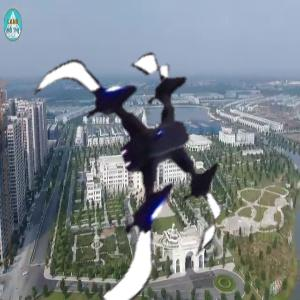drone: (11, 33, 257, 279)
